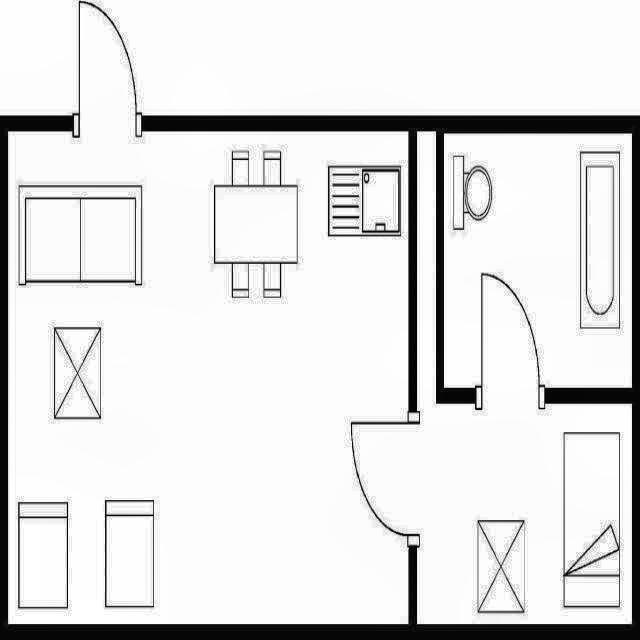room: (8, 131, 408, 624), (416, 131, 632, 624), (444, 133, 632, 388)
